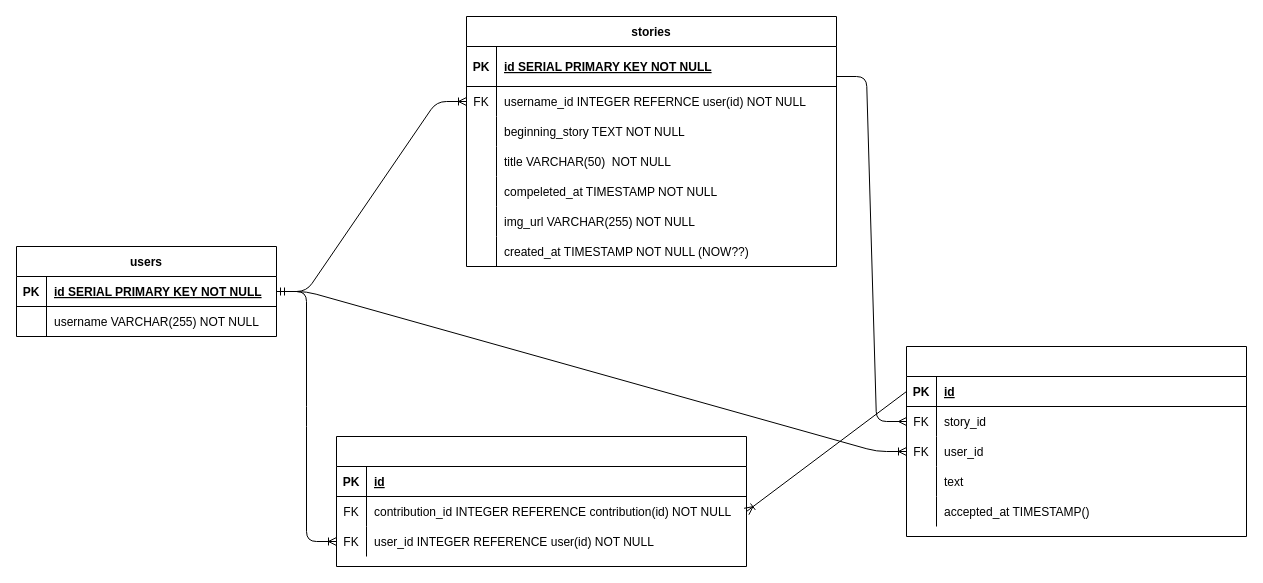
Image size: 1263x583. Some labels were removed from this diagram. The box of each missing label's shape, as (x1, y1, x2, y2) in pixels:
contributions: (906, 346, 1246, 536)
upVotes: (336, 436, 746, 566)
